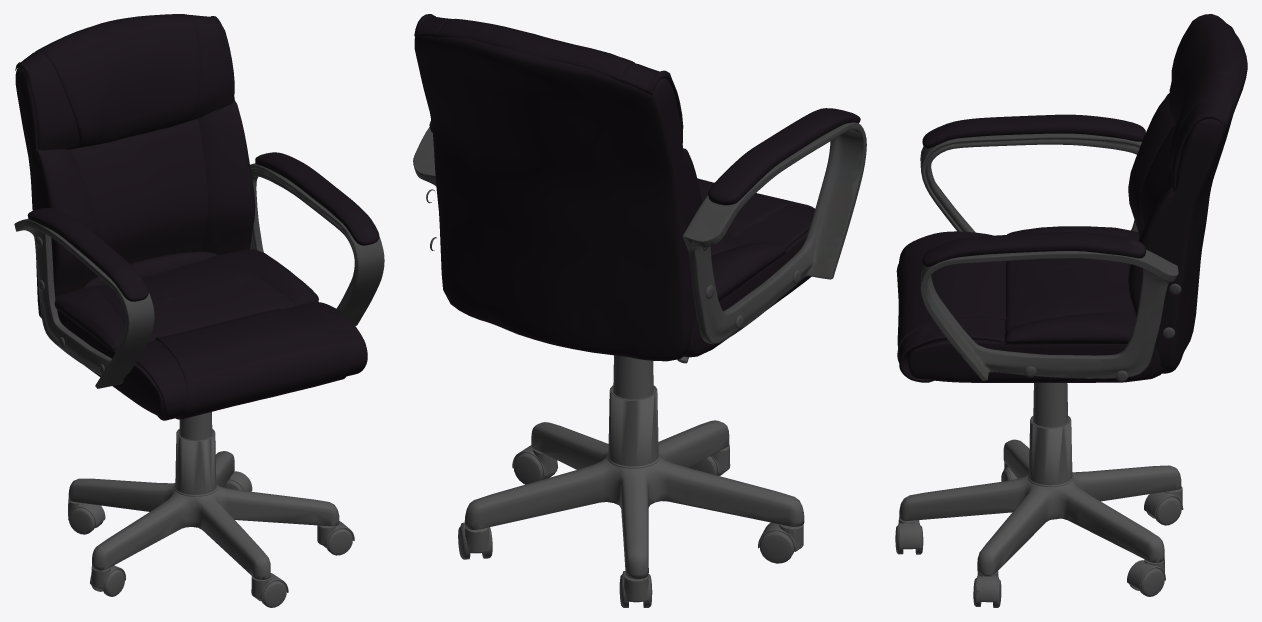
File: B00IFHPVEU.glb
3 views of the same model, side by side, from view 1: azimuth 30°, elevation 25°; view 2: azimuth 150°, elevation 25°; view 3: azimuth 270°, elevation 25° (orthographic). The views are drawn at different scales.
Visible parts, largest first — view 1: "$ADAAOMLDFGCAAAAAICBAAAAAAAAALEEMGCMI"; view 2: "$ADAAOMLDFGCAAAAAICBAAAAAAAAALEEMGCMI"; view 3: "$ADAAOMLDFGCAAAAAICBAAAAAAAAALEEMGCMI".
Part boxes in pixels (box(x1,y1,x2,y2)): "$ADAAOMLDFGCAAAAAICBAAAAAAAAALEEMGCMI": box(14, 14, 384, 607); "$ADAAOMLDFGCAAAAAICBAAAAAAAAALEEMGCMI": box(413, 14, 866, 607); "$ADAAOMLDFGCAAAAAICBAAAAAAAAALEEMGCMI": box(895, 14, 1247, 607).
Size of the model in its own units: 0.5758 by 0.9979 by 0.6415.
1 material, 1 textured.
